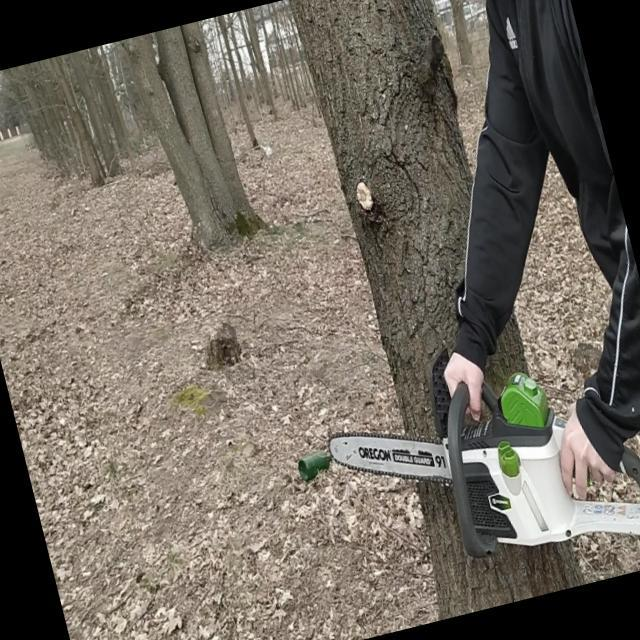Chainsaw: (310, 333, 640, 624)
